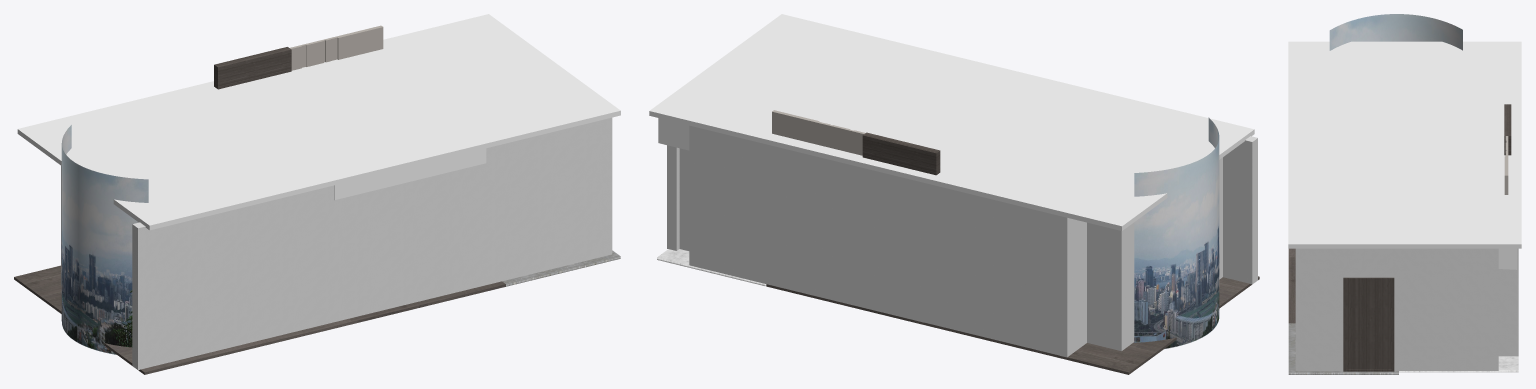
The model's file is changjing.fbx.
3 renders of one model, left to right at view 1: azimuth 30°, elevation 25°; view 2: azimuth 150°, elevation 25°; view 3: azimuth 270°, elevation 25°, orthographic. The views are drawn at different scales.
Parts seen in each view (by area): view 1: qiang18, ding, waijing, diban2, tianhuaban10, qiang11, qiang4, diban4; view 2: qiang18, ding, waijing, diban2, qiang11, qiang4, tainhuaban, diban3; view 3: ding, qiang18, men8, waijing, diban4, men7, diban2, diban3, tainhuaban, qiang11.
Part boxes in pixels (box(x1,y1,x2,y2)): qiang18: box(61, 117, 612, 370); ding: box(17, 14, 620, 230); waijing: box(61, 125, 148, 354); diban2: box(14, 265, 505, 374); tianhuaban10: box(334, 148, 486, 199); qiang11: box(214, 47, 291, 89); qiang4: box(336, 25, 383, 59); diban4: box(502, 250, 620, 286); qiang18: box(667, 125, 1257, 357); ding: box(649, 14, 1254, 230); waijing: box(1134, 117, 1219, 349); diban2: box(766, 276, 1259, 374); qiang11: box(862, 132, 940, 175); qiang4: box(772, 110, 819, 144); tainhuaban: box(658, 118, 689, 150); diban3: box(657, 249, 766, 285); ding: box(1288, 41, 1521, 248); qiang18: box(1295, 248, 1518, 370); men8: box(1346, 277, 1391, 368); waijing: box(1329, 14, 1462, 50); diban4: box(1288, 323, 1398, 374); men7: box(1343, 277, 1394, 371); diban2: box(1288, 248, 1295, 323); diban3: box(1399, 356, 1518, 372); tainhuaban: box(1498, 248, 1517, 269); qiang11: box(1504, 104, 1511, 155).
Size of the model in its own units: 1064 by 373 by 500.
